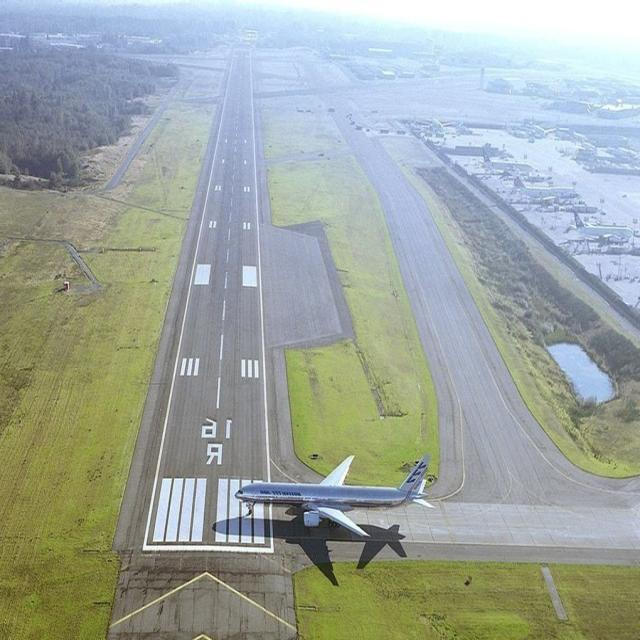plain: (216, 445, 440, 540)
